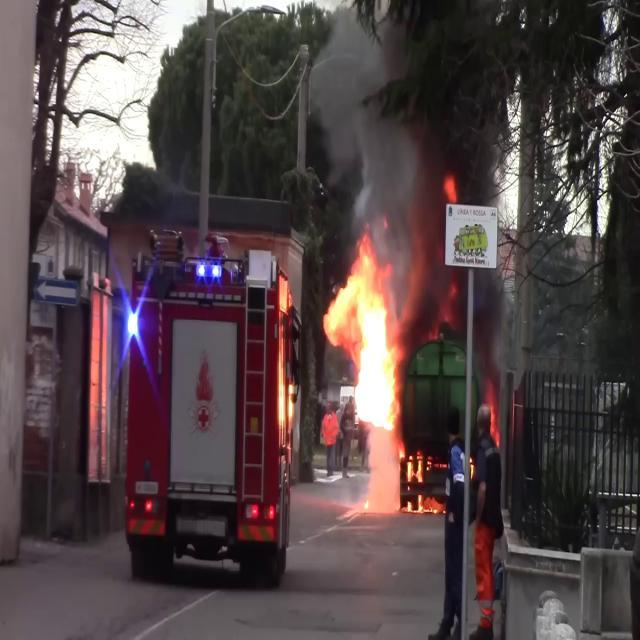Fire: (323, 242, 405, 433), (401, 443, 431, 505), (485, 382, 500, 449)
Smoke: (310, 5, 440, 295)
